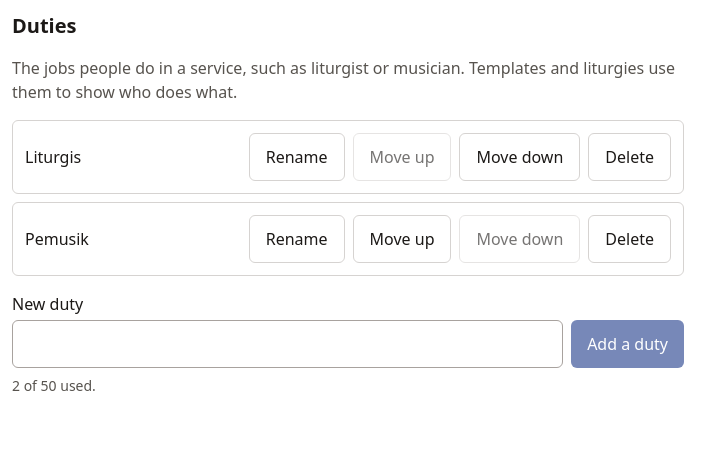
NameListPage › reloads and says so when the list was changed by someone else
The width and height of the screenshot is (701, 474).
Click the button with aria-label "Move down Liturgis" at point(520, 157), box [460, 133, 580, 181]
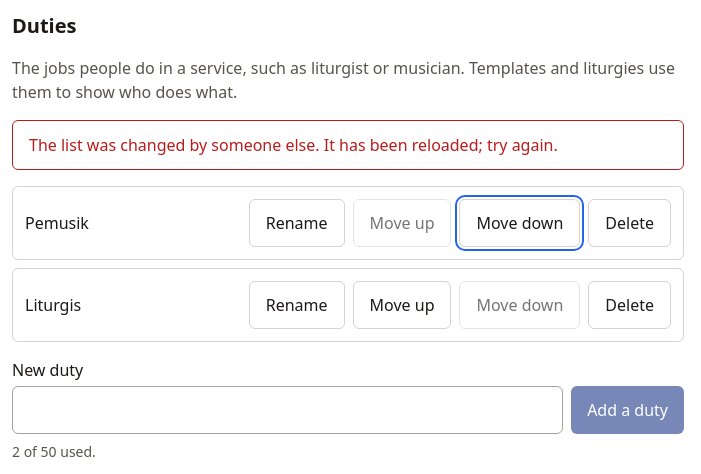
Result: the text "The list was changed by someone else. It has been reloaded; try again." is shown at [12, 120, 684, 170]
Result: the list item "Pemusik Rename Move up Move down Delete" is shown at [12, 186, 684, 260]
